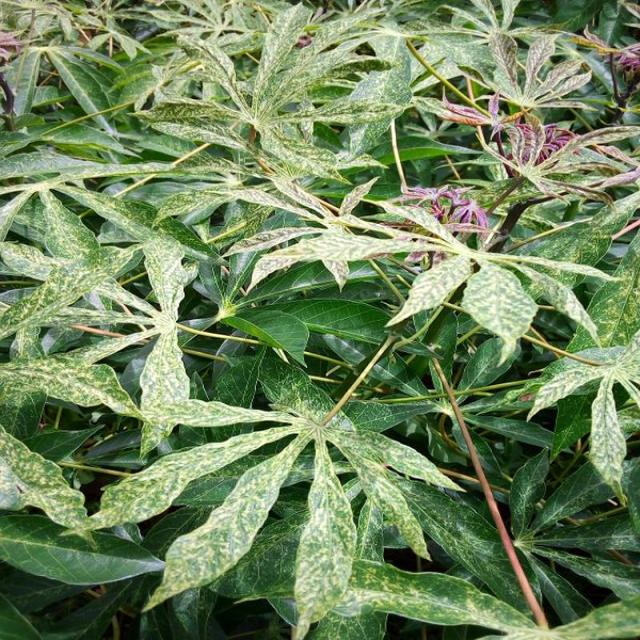cassava leaf: (1, 1, 638, 638), (459, 259, 538, 364)
